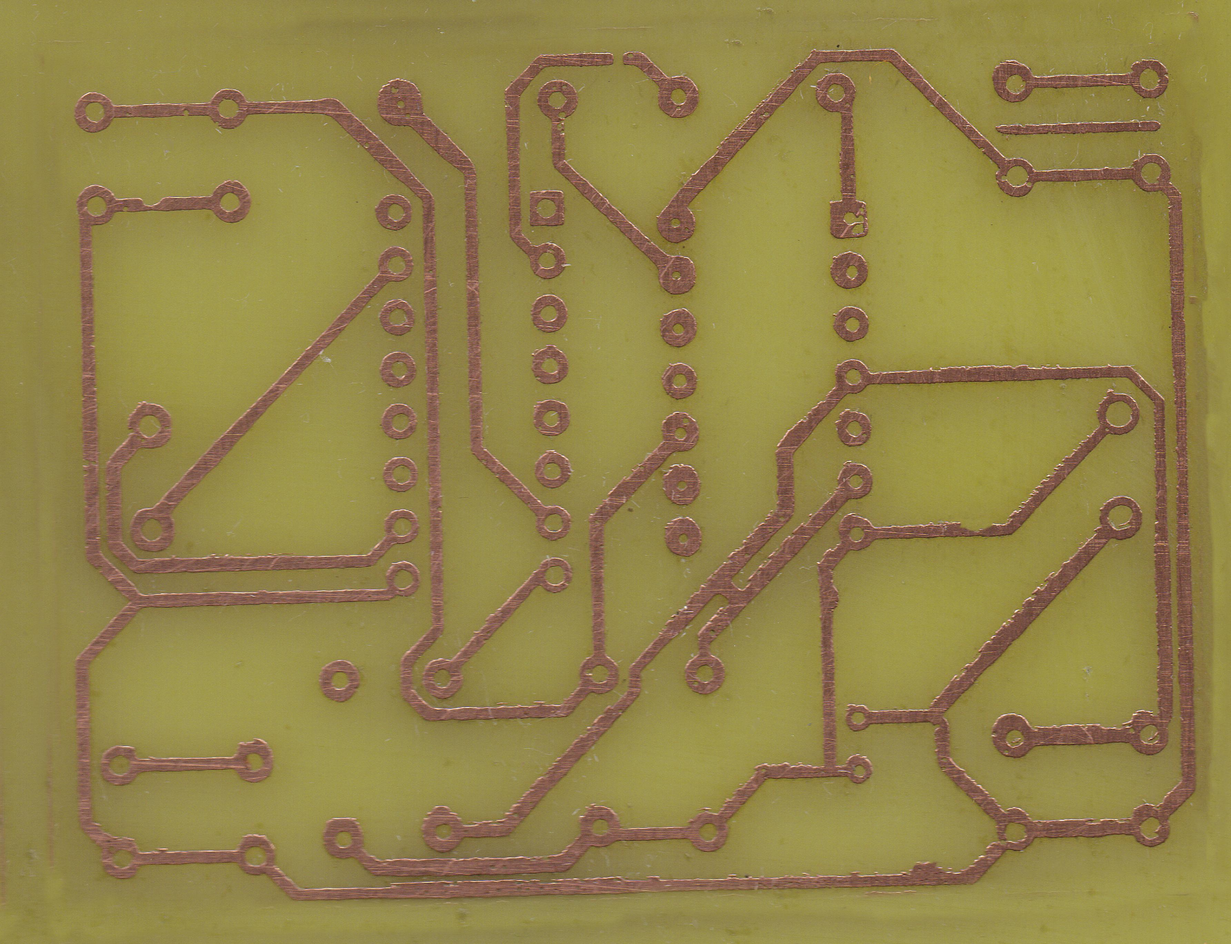missing_hole: (827, 198, 872, 242)
mouse_bite: (947, 515, 1002, 545), (1091, 716, 1130, 750), (136, 196, 172, 214)
open_circuit: (606, 45, 632, 71)
short: (708, 569, 751, 613)
spur: (907, 856, 945, 891), (815, 577, 842, 616), (155, 844, 171, 870)
spurious_copper: (992, 117, 1165, 139)
